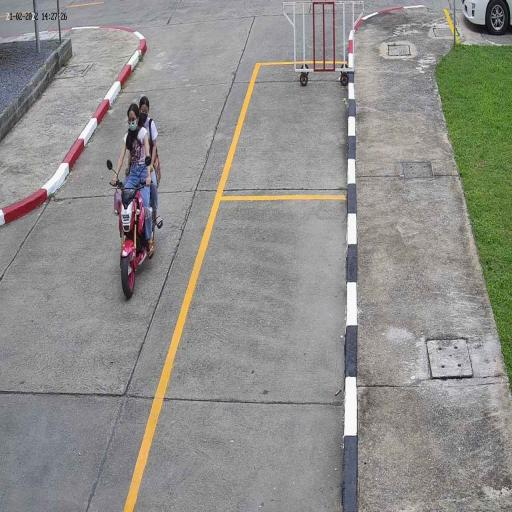motorcycle: (116, 183, 145, 302)
